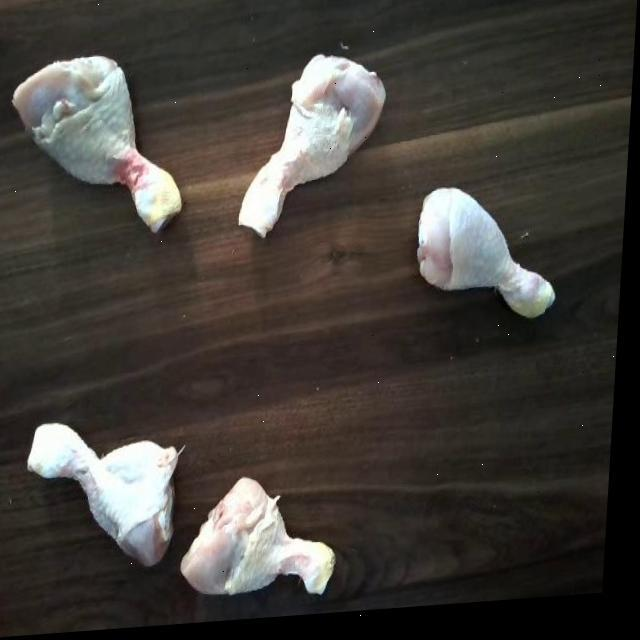leg: (7, 44, 195, 232), (236, 43, 396, 257), (397, 170, 572, 342), (28, 398, 186, 574), (179, 458, 358, 608)
